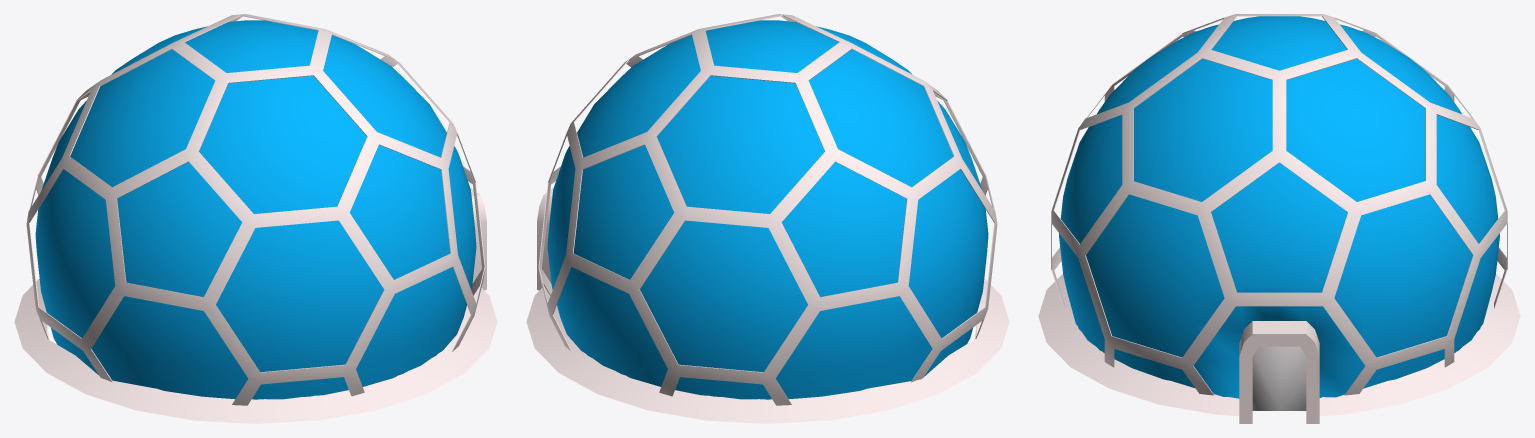
The model's file is casa 1.fbx.
3 views of the same model, side by side, from view 1: azimuth 30°, elevation 25°; view 2: azimuth 150°, elevation 25°; view 3: azimuth 270°, elevation 25° (orthographic).
Visible parts, largest first — view 1: Icosphere.008, Icosphere.005; view 2: Icosphere.008, Icosphere.005; view 3: Icosphere.008, Icosphere.005, Icosphere.007.
Part boxes in pixels (x1,y1,x2,y2): Icosphere.008: [35, 20, 476, 399]; Icosphere.005: [14, 14, 497, 423]; Icosphere.008: [547, 20, 988, 399]; Icosphere.005: [526, 14, 1009, 423]; Icosphere.008: [1059, 16, 1499, 398]; Icosphere.005: [1038, 14, 1520, 423]; Icosphere.007: [1252, 346, 1306, 410].
Bounding box in the file's own units: 1517 × 992 × 1511.
Materials: 1 (1 with a texture image).
